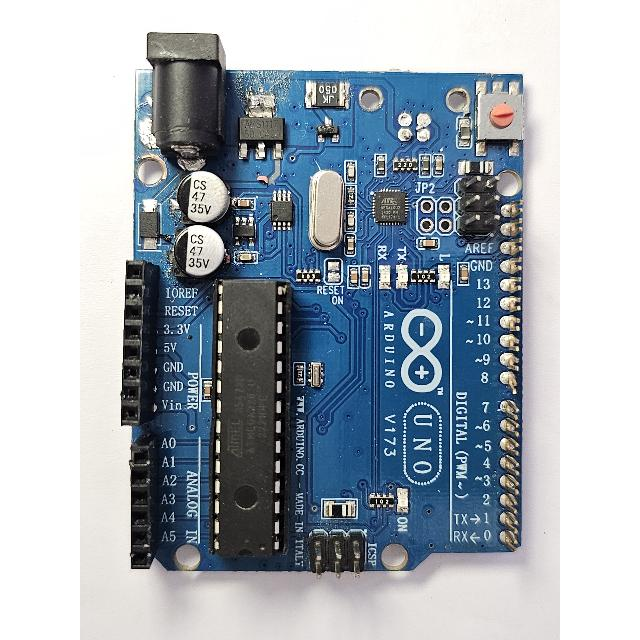missing_digital_pins: (497, 186, 526, 556)
missing_usb: (357, 77, 467, 154)
